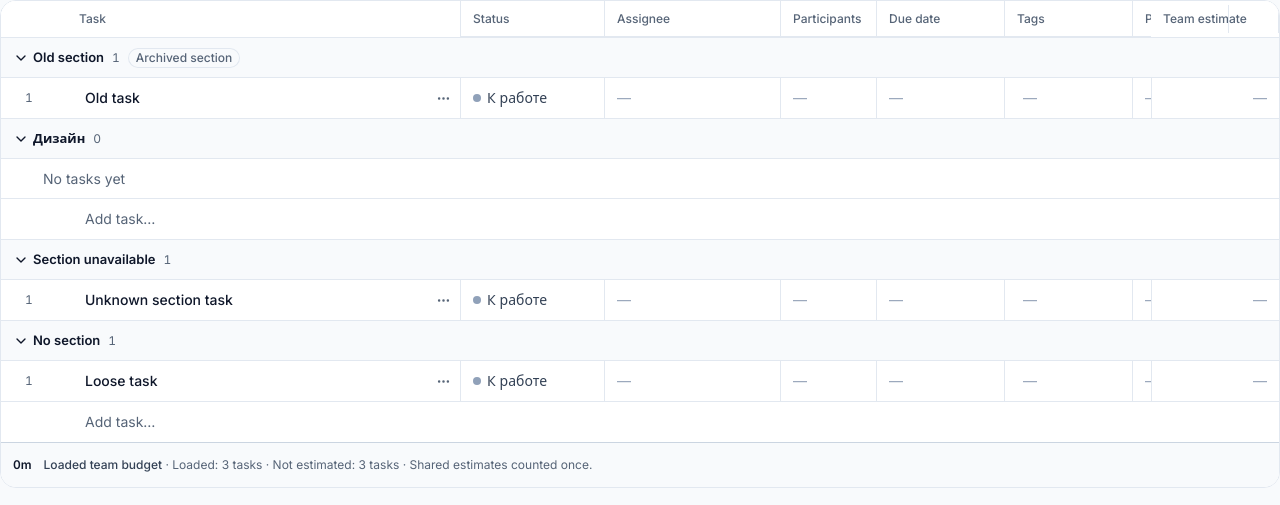
it: section disclosure › supports unavailable, unsectioned, archived and empty groups without enabling forbidden actions
Click the button "Section unavailable".
click(84, 260)  # box [13,244,156,276]
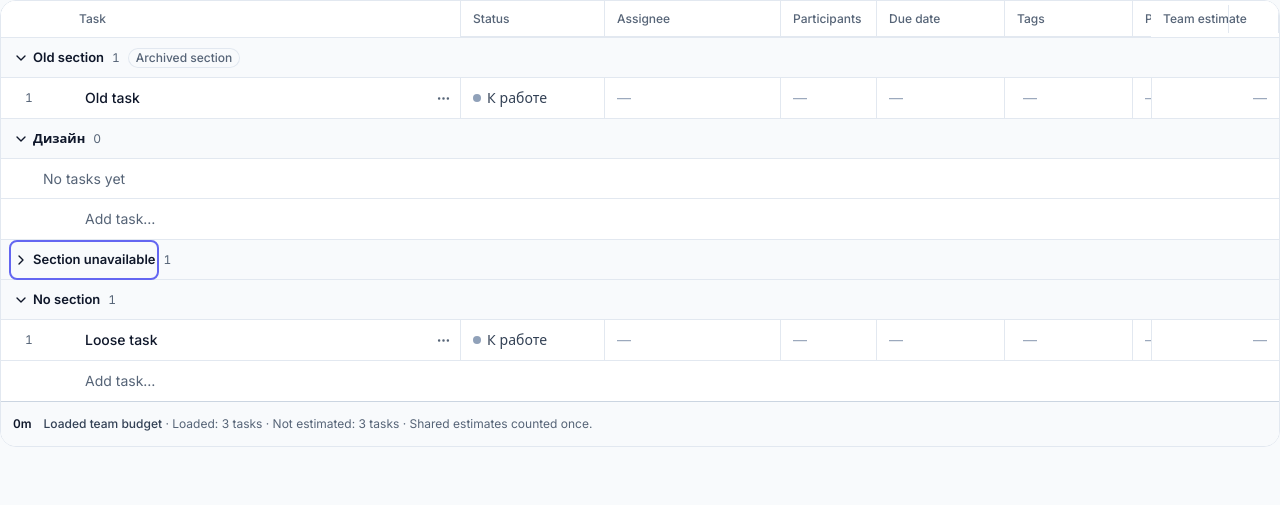
Click the button "No section".
click(57, 300)  # box [13,284,100,316]
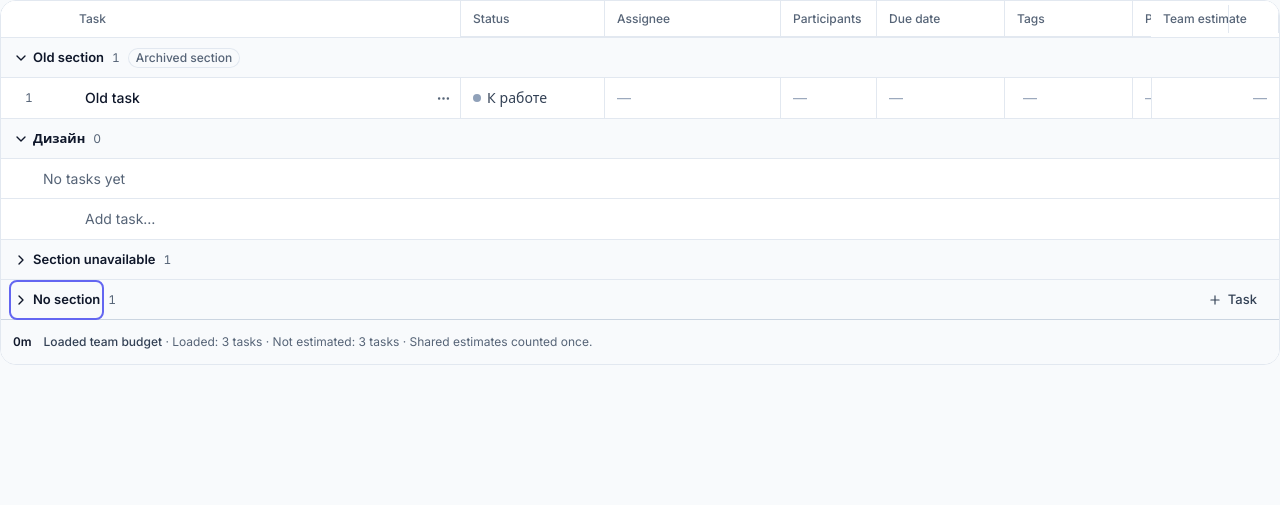
Click the button "Old section".
click(58, 58)  # box [13,42,104,74]
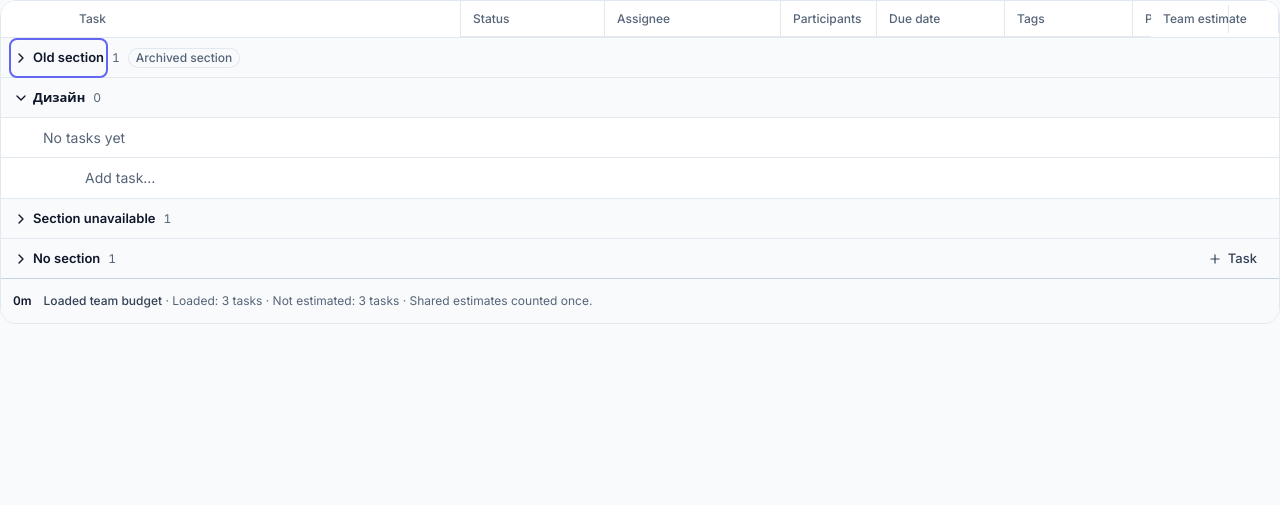
Click the button "Дизайн".
click(49, 98)  # box [13,82,85,114]
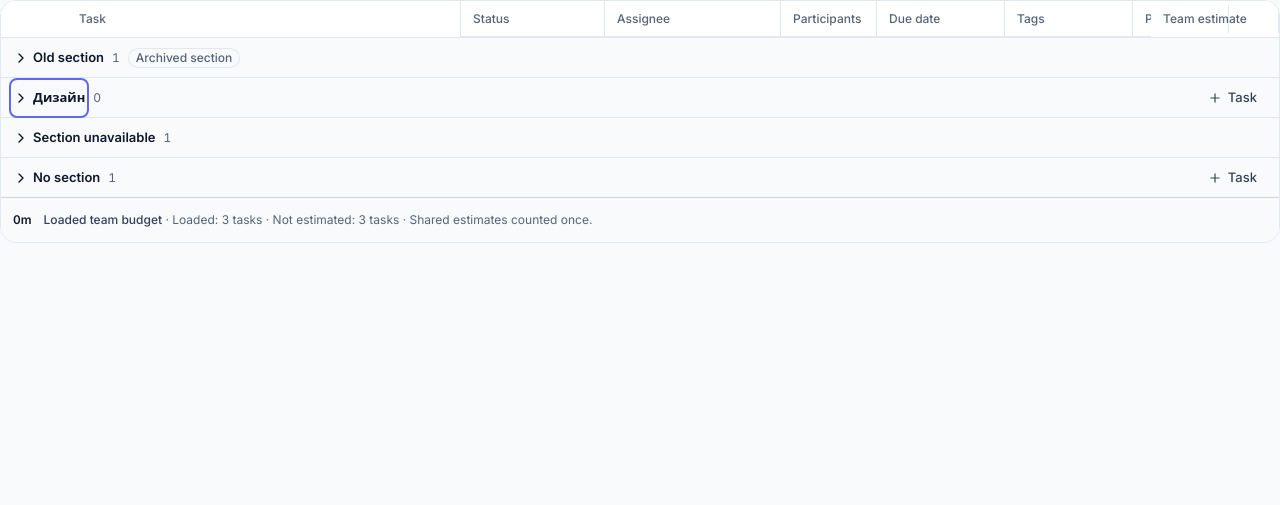
Check: the button "Unknown section task" is not shown
Check: the text "No tasks yet" is gone
Click the button "Дизайн".
click(49, 98)  # box [13,82,85,114]
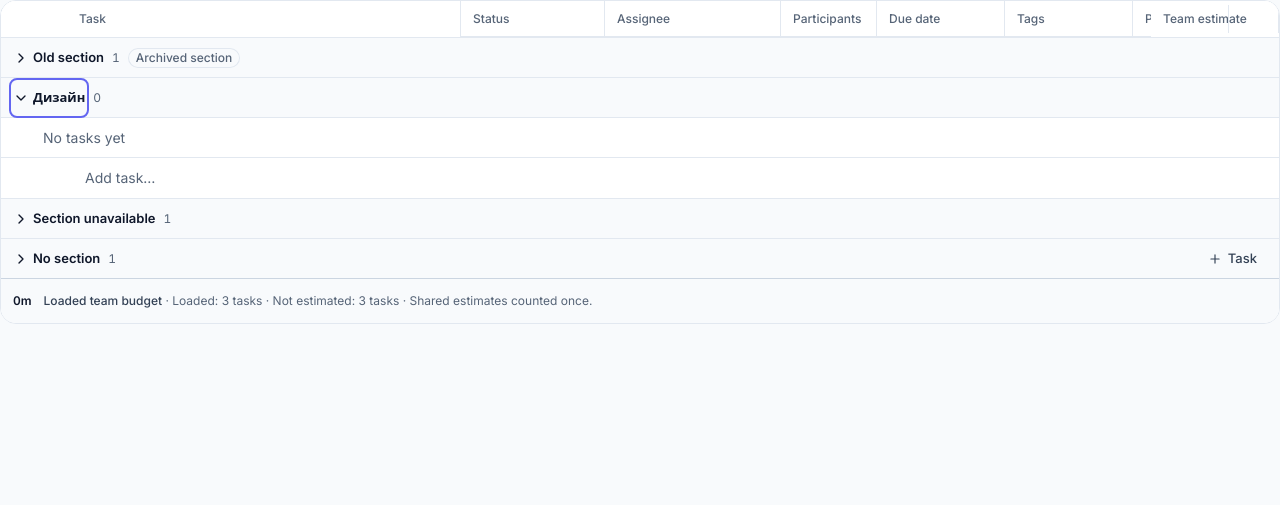
Check: the text "No tasks yet" is shown, box [1,118,1279,158]
